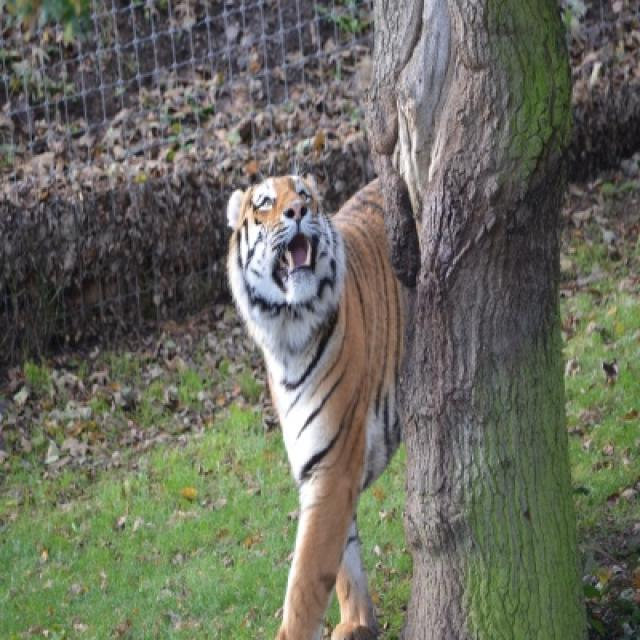Tiger: (226, 176, 402, 638)
